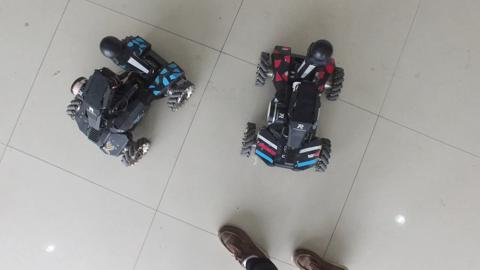chariot: (56, 29, 195, 174), (234, 37, 354, 178)
